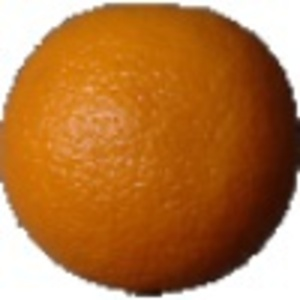laranja: (2, 2, 297, 297)
